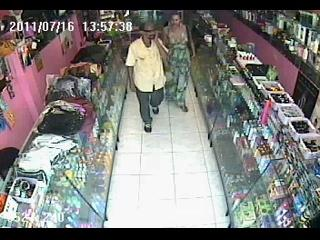Normal: (125, 21, 169, 134), (162, 14, 195, 112)
